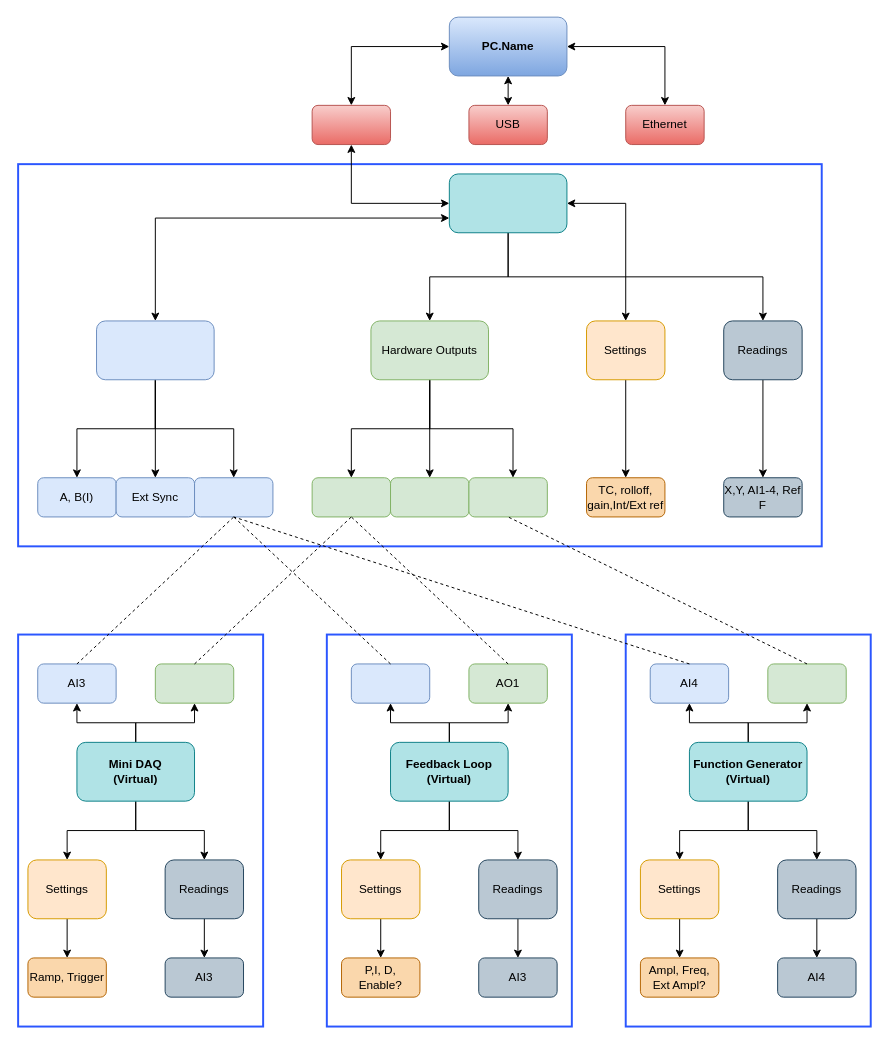
Some shapes in this 888 by 1045 pixel diagram are drawn without their labels. The shapes that lost their labels are listed below. From the top down, each one's box as (x1, y1, x2, y2) in pixels, then its label:
(311, 104, 391, 145): GPIB
(448, 173, 567, 233): SR830
(96, 320, 214, 380): Hardware Inputs
(194, 477, 273, 517): AI1-4
(311, 477, 391, 517): AO1-4
(390, 477, 469, 517): X, Y (R Theta)
(468, 477, 547, 517): Sine out (Ampl, Freq)
(154, 663, 234, 703): AO2
(350, 663, 430, 703): AI1
(767, 663, 846, 703): Sine Out
